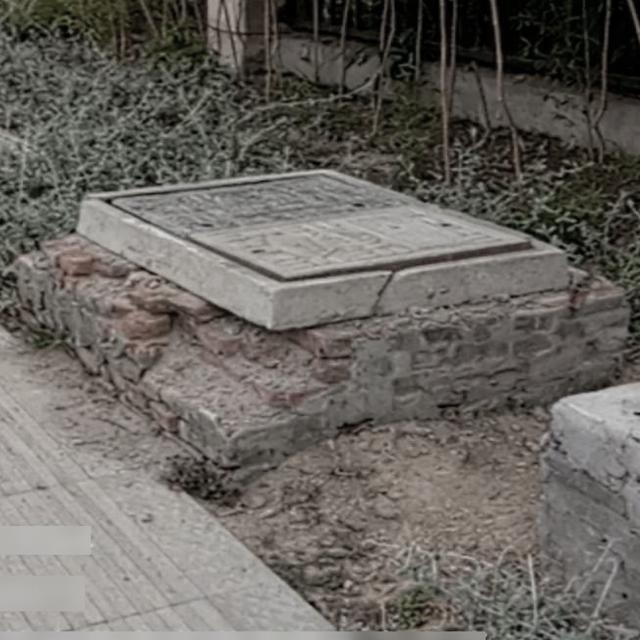good: (86, 167, 562, 288)
